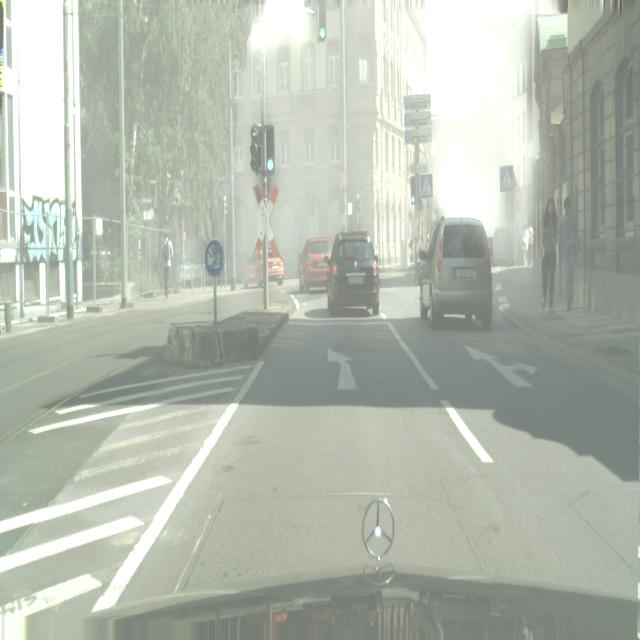person: (558, 196, 580, 311), (540, 198, 558, 312), (159, 231, 174, 300), (521, 226, 529, 267), (527, 222, 534, 267)
truck: (419, 216, 493, 331), (326, 232, 380, 318), (298, 236, 333, 293), (242, 248, 284, 289), (179, 258, 193, 286)
